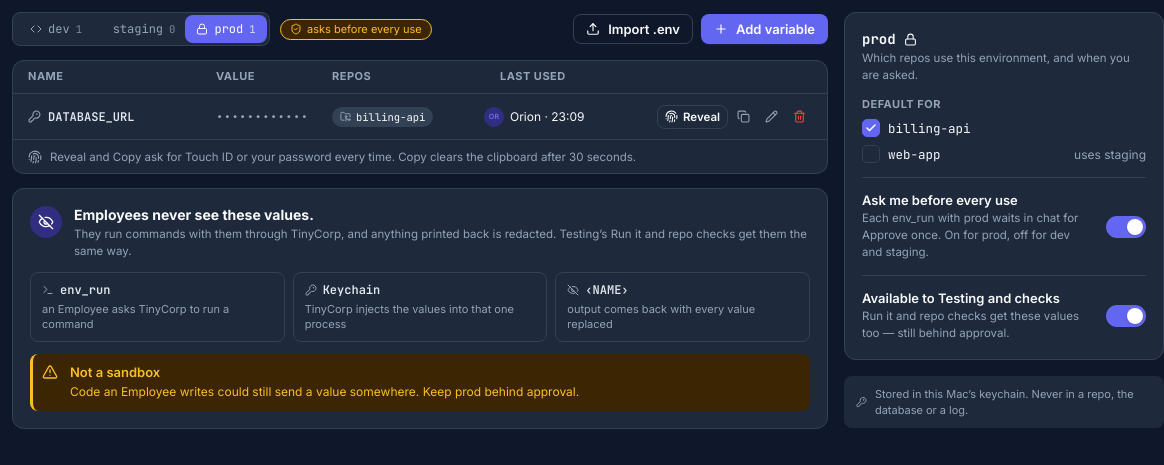
Test: The Environments tab › shows a value only after Reveal, and asks the main process for it each time
Click the button "Reveal" at [692, 116], box top-left (657, 104), bottom-right (728, 128)
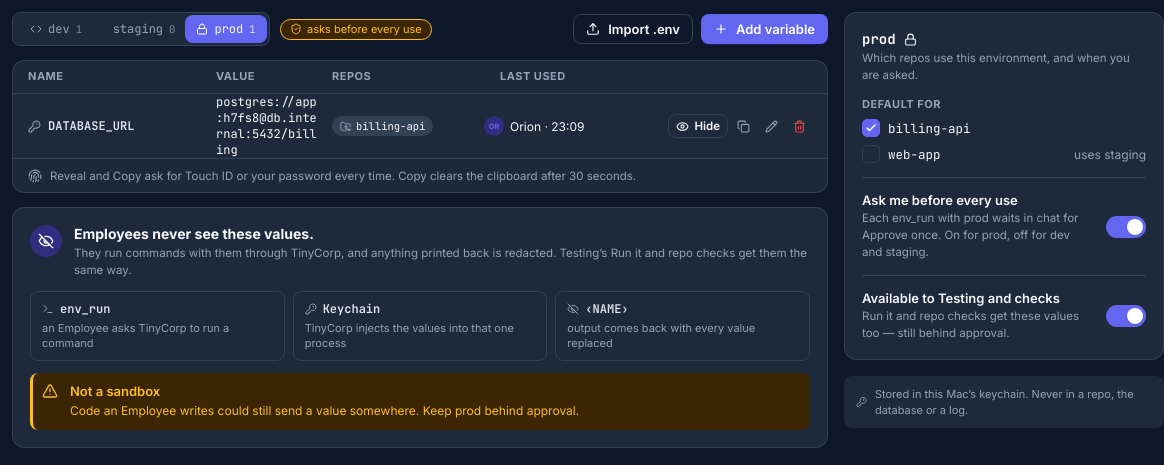
Check: the text "postgres://app:h7fs8@db.internal:5432/billing" is shown, box top-left (216, 94), bottom-right (320, 158)
Click the button "Hide" at [698, 126], box top-left (668, 114), bottom-right (728, 138)
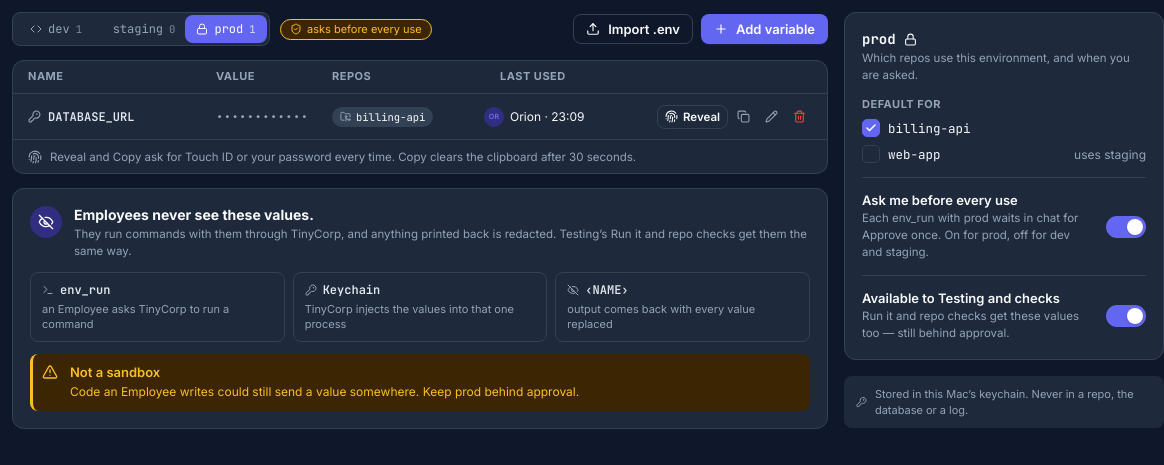
Check: the text "postgres://" is gone
